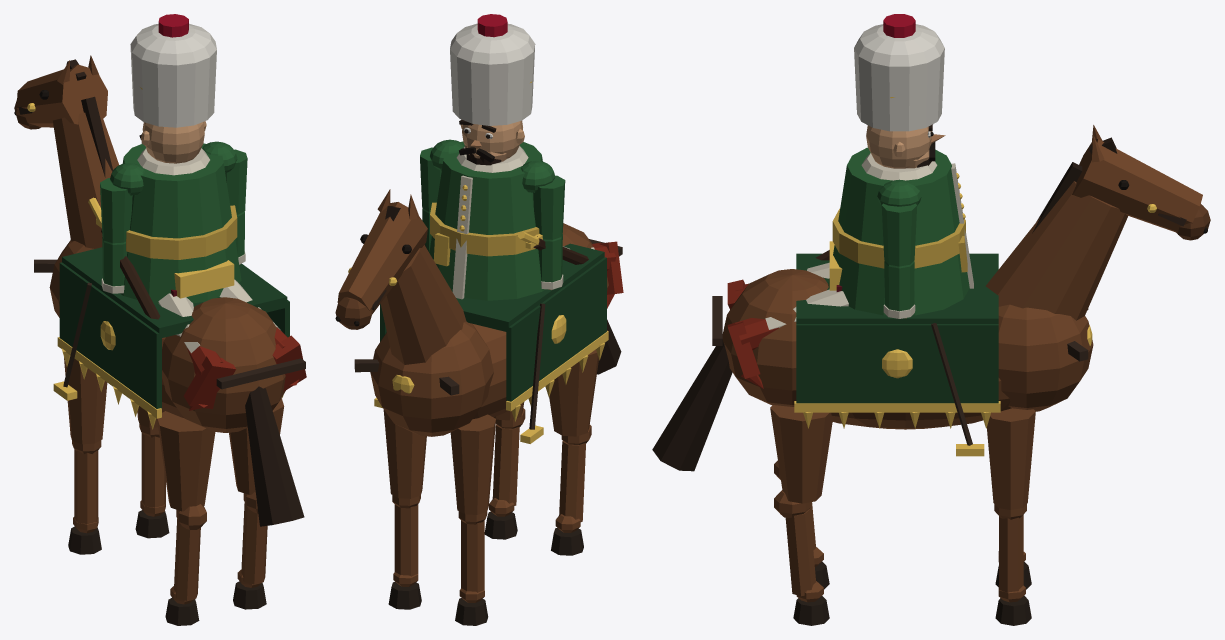
File: ibrahim.glb
3 views of the same model, side by side, from view 1: azimuth 30°, elevation 25°; view 2: azimuth 150°, elevation 25°; view 3: azimuth 270°, elevation 25° (orthographic). The views are drawn at different scales.
Visible parts, largest first — view 1: at_govde, govde, bas, at_boyun, at_bacak2, at_bacak0, at_kuyruk, at_bacak3, at_bacak1, kolL, bacakL, bacakR (+1 smaller); view 2: at_govde, govde, at_boyun, bas, at_bacak0, at_bacak2, at_bacak1, at_bacak3, kolL, kolR, bacakL, at_kuyruk; view 3: at_govde, at_boyun, govde, bas, at_bacak3, at_bacak1, at_kuyruk, kolR, bacakR.
Part boxes in pixels (bbox=[...]): at_govde: bbox=[34, 240, 305, 432]; govde: bbox=[88, 141, 241, 319]; bas: bbox=[130, 14, 216, 163]; at_boyun: bbox=[14, 55, 118, 248]; at_bacak2: bbox=[157, 411, 215, 625]; at_bacak0: bbox=[64, 357, 107, 554]; at_kuyruk: bbox=[245, 386, 304, 526]; at_bacak3: bbox=[229, 398, 284, 609]; at_bacak1: bbox=[135, 406, 169, 538]; kolL: bbox=[100, 178, 132, 293]; bacakL: bbox=[158, 293, 236, 410]; bacakR: bbox=[219, 279, 306, 391]; at_govde: bbox=[354, 223, 622, 443]; govde: bbox=[429, 139, 588, 300]; at_boyun: bbox=[335, 189, 466, 364]; bas: bbox=[450, 14, 535, 165]; at_bacak0: bbox=[450, 414, 495, 625]; at_bacak2: bbox=[549, 349, 598, 555]; at_bacak1: bbox=[383, 409, 426, 609]; at_bacak3: bbox=[484, 402, 525, 539]; kolL: bbox=[533, 175, 565, 290]; kolR: bbox=[420, 147, 441, 252]; bacakL: bbox=[563, 241, 623, 308]; at_kuyruk: bbox=[597, 319, 621, 374]; at_govde: bbox=[712, 241, 1093, 456]; at_boyun: bbox=[986, 125, 1210, 320]; govde: bbox=[815, 147, 973, 315]; bas: bbox=[854, 14, 945, 168]; at_bacak3: bbox=[770, 405, 832, 625]; at_bacak1: bbox=[987, 408, 1035, 625]; at_kuyruk: bbox=[652, 340, 732, 471]; kolR: bbox=[881, 203, 917, 318]; bacakR: bbox=[727, 289, 848, 388].
Bounding box in the file's own units: 0.94 × 3.17 × 2.76.
